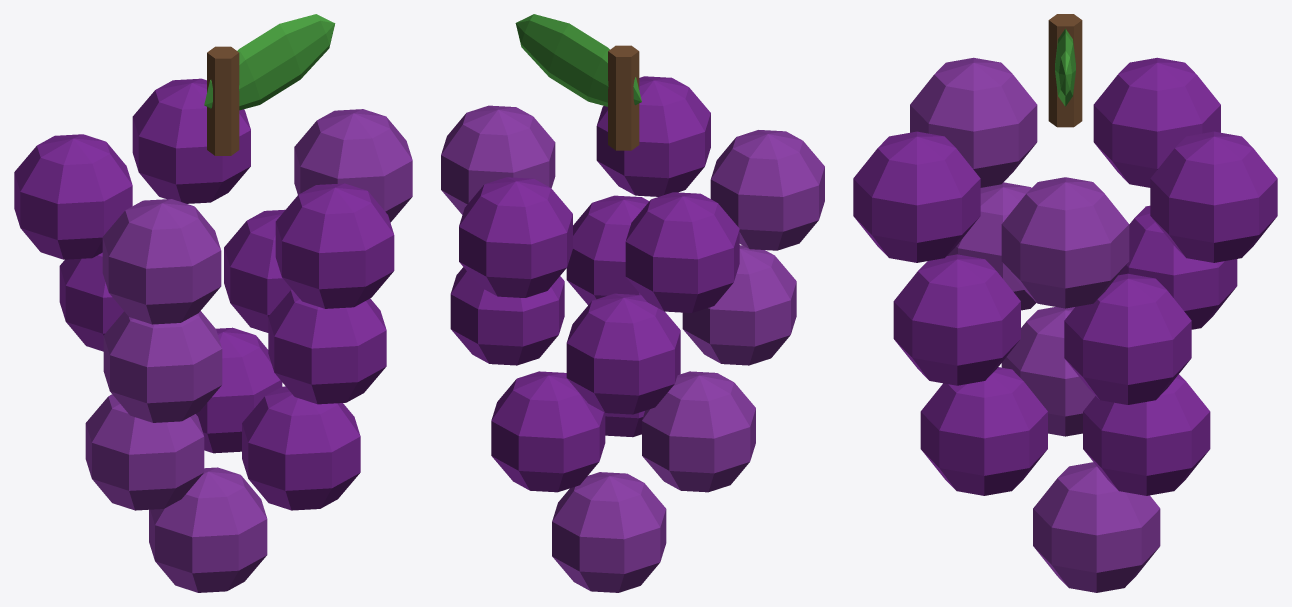
Rendered from Fruto_Grape.fbx.
3 renders of one model, left to right at view 1: azimuth 30°, elevation 25°; view 2: azimuth 150°, elevation 25°; view 3: azimuth 270°, elevation 25°, orthographic. The views are drawn at different scales.
Visible parts, largest first — view 1: Produto_Grape, Cabo_Grape; view 2: Produto_Grape, Cabo_Grape; view 3: Produto_Grape, Cabo_Grape.
Boxes of the visible parts, x1,y1,x2,y2 form: Produto_Grape: (14,78,412,592); Cabo_Grape: (204,14,335,155); Produto_Grape: (441,76,824,592); Cabo_Grape: (515,14,641,150); Produto_Grape: (853,57,1277,592); Cabo_Grape: (1048,14,1082,127).
Bounding box in the file's own units: 0.7348 × 1.16 × 0.7608.
Materials: 1 (1 with a texture image).
